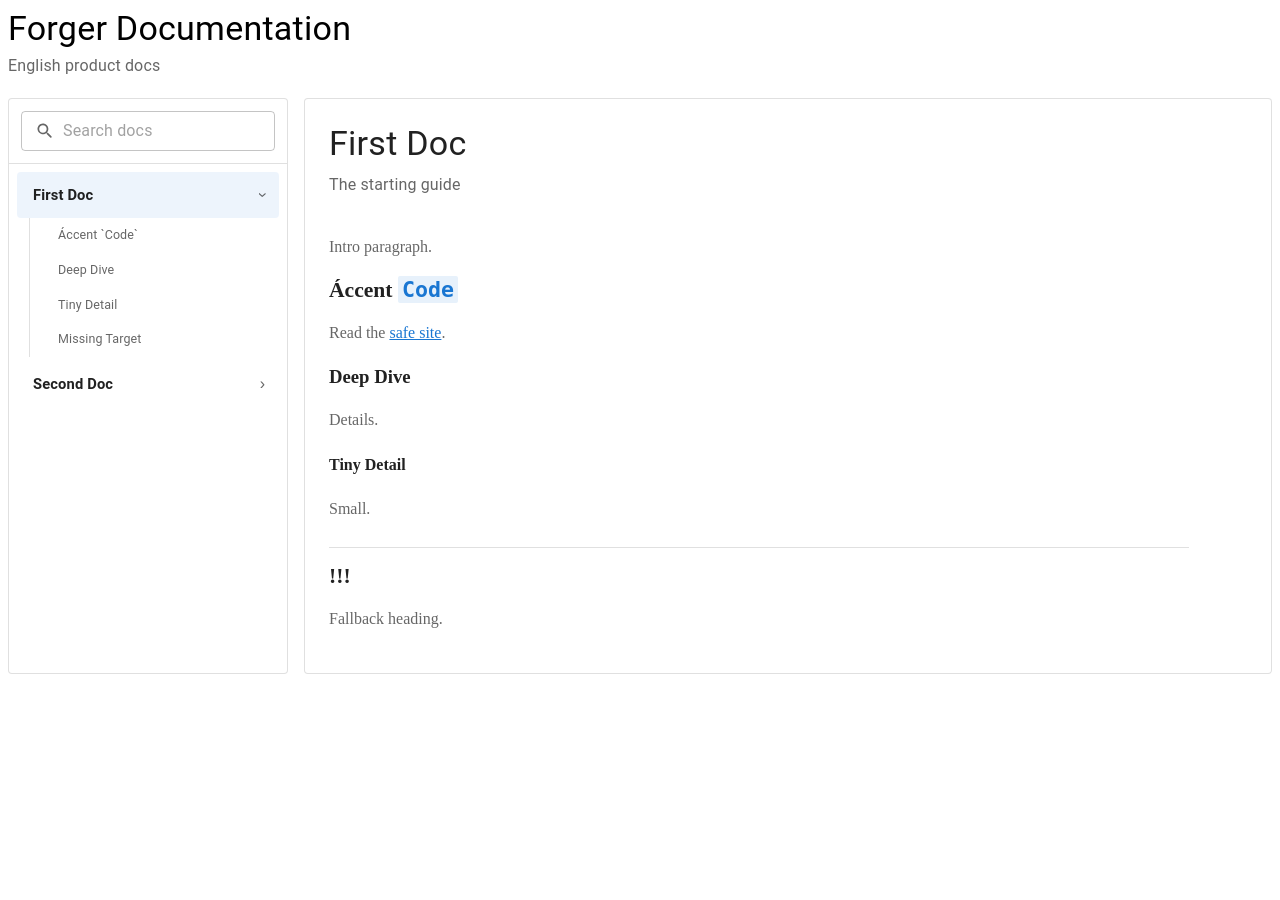
DocsView › searches documents, expands navigation, and opens a document
Check: the heading "Forger Documentation" is shown, box [8,8,351,48]
Check: the heading "First Doc" is shown, box [329,123,466,163]
Type "advanced workflows" into the field with placeholder "Search docs".
click(169, 131); type("advanced workflows")  # box [63,111,275,151]
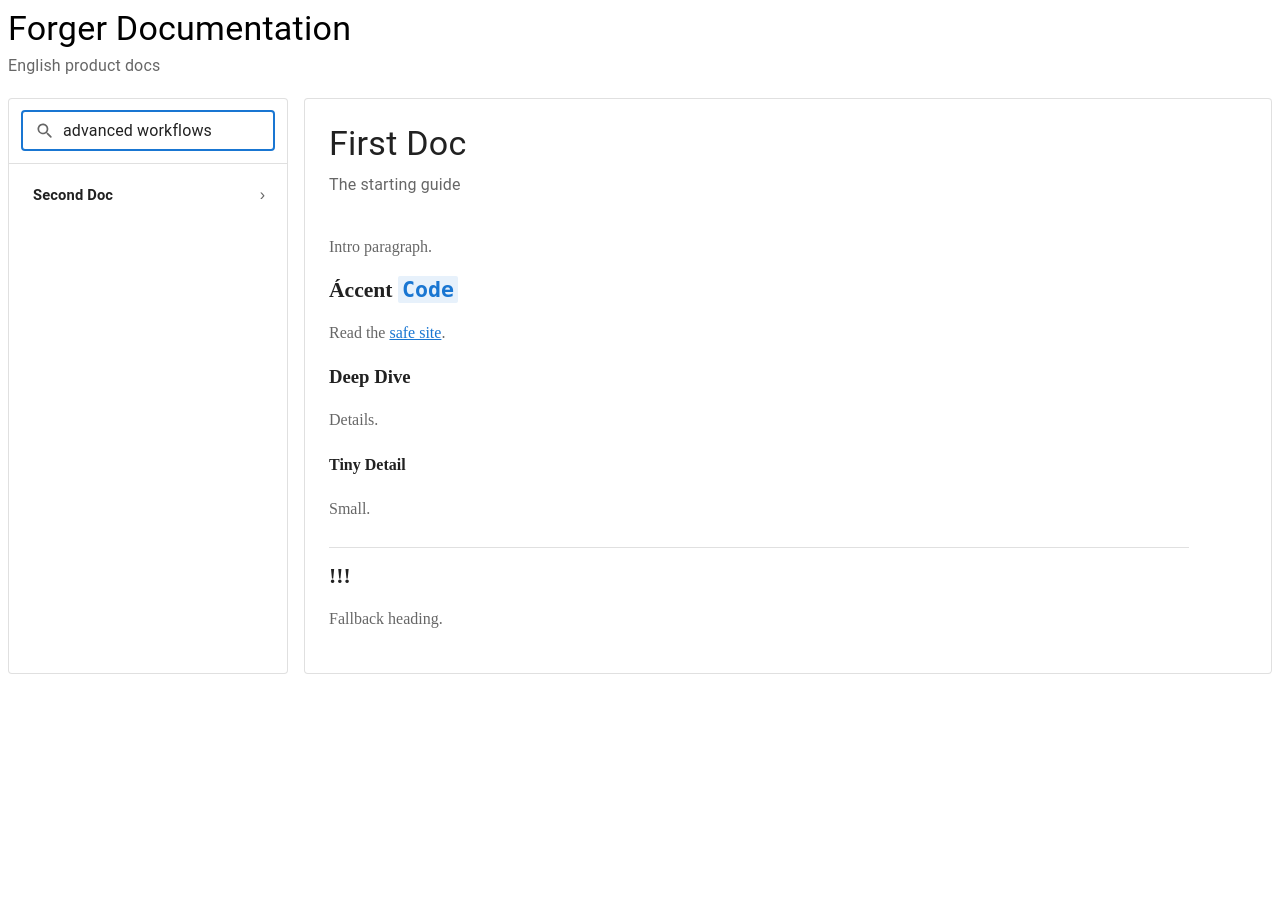
Check: the text "Second Doc" is shown, box [33,186,113,204]
Clear the field with placeholder "Search docs" at (169, 131), box [63,111,275,151]
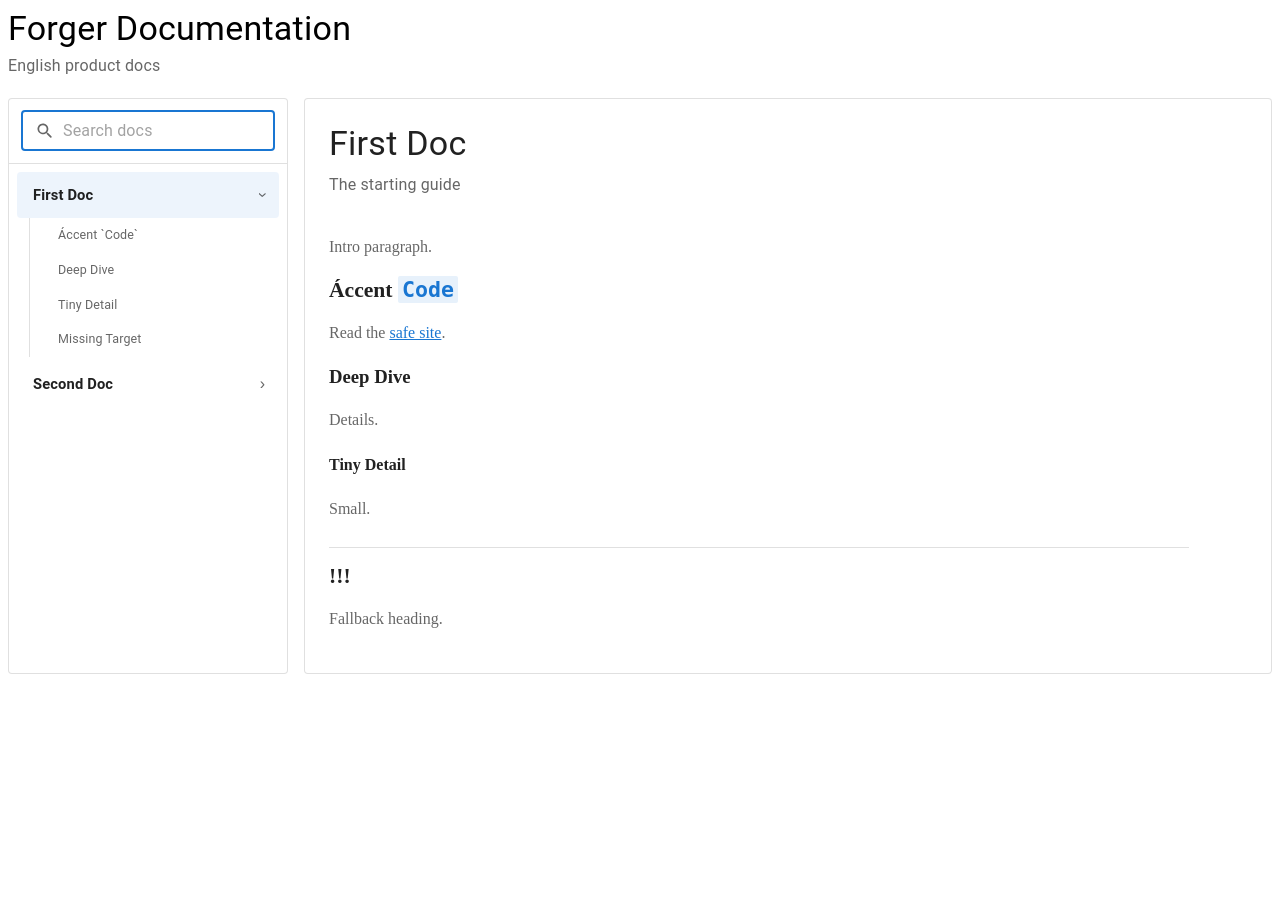
Click the button named "Collapse section".
click(262, 195)  # box [252,186,272,204]
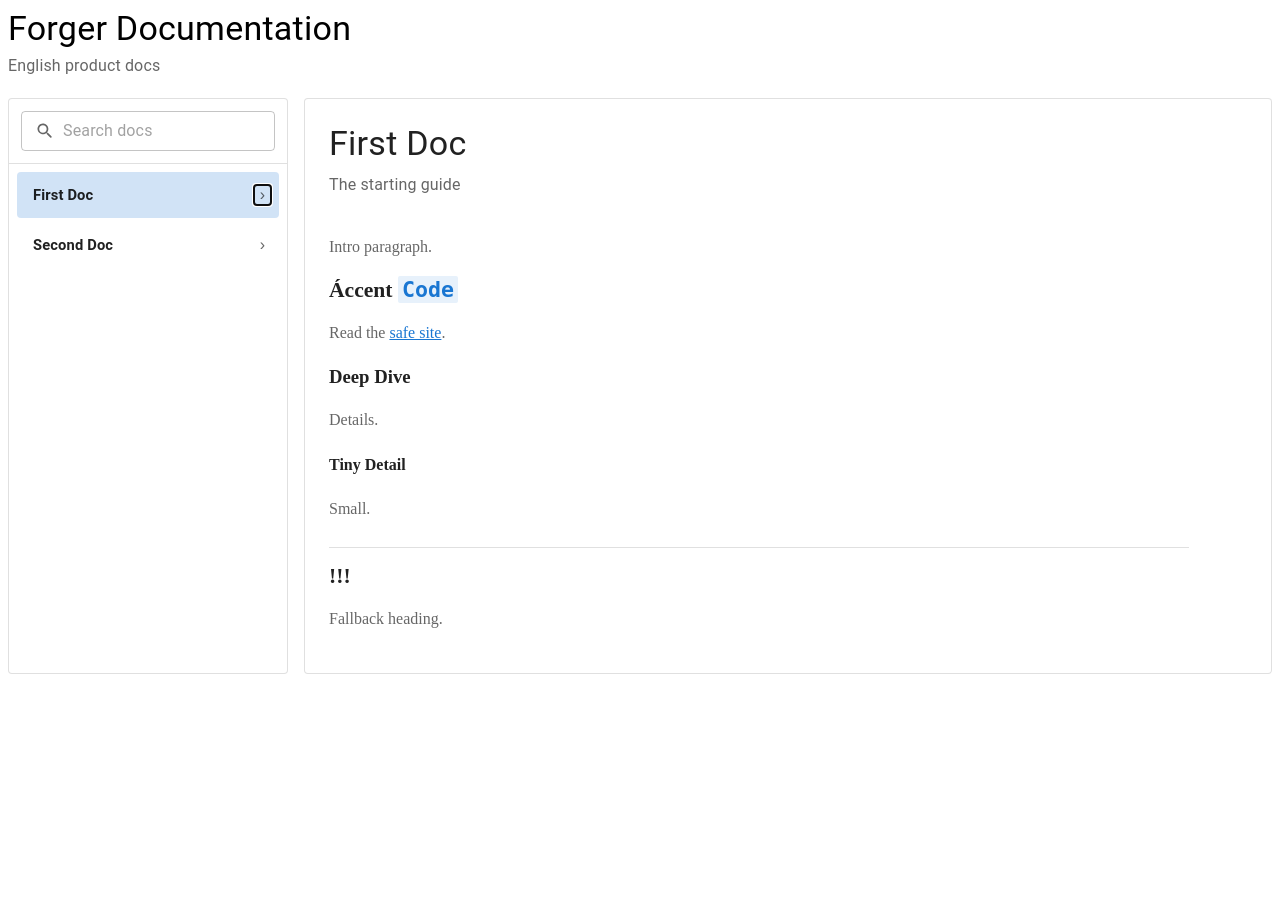
Click the button named "Expand section".
click(262, 195)  # box [254,185,271,205]
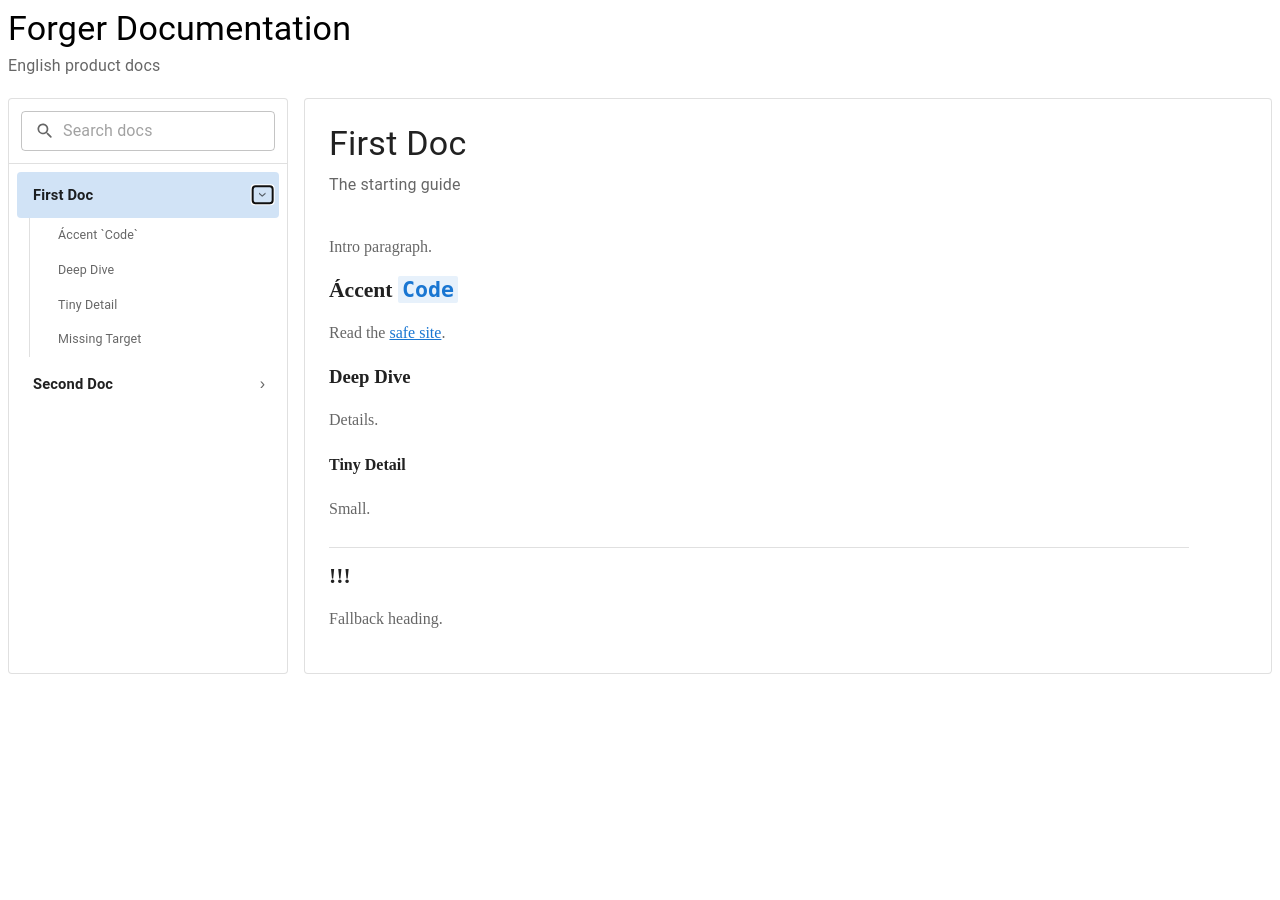
Check: the button "Deep Dive" is shown, box [58,262,114,277]
Click the button "Second Doc ›".
click(73, 384)  # box [33,374,271,394]
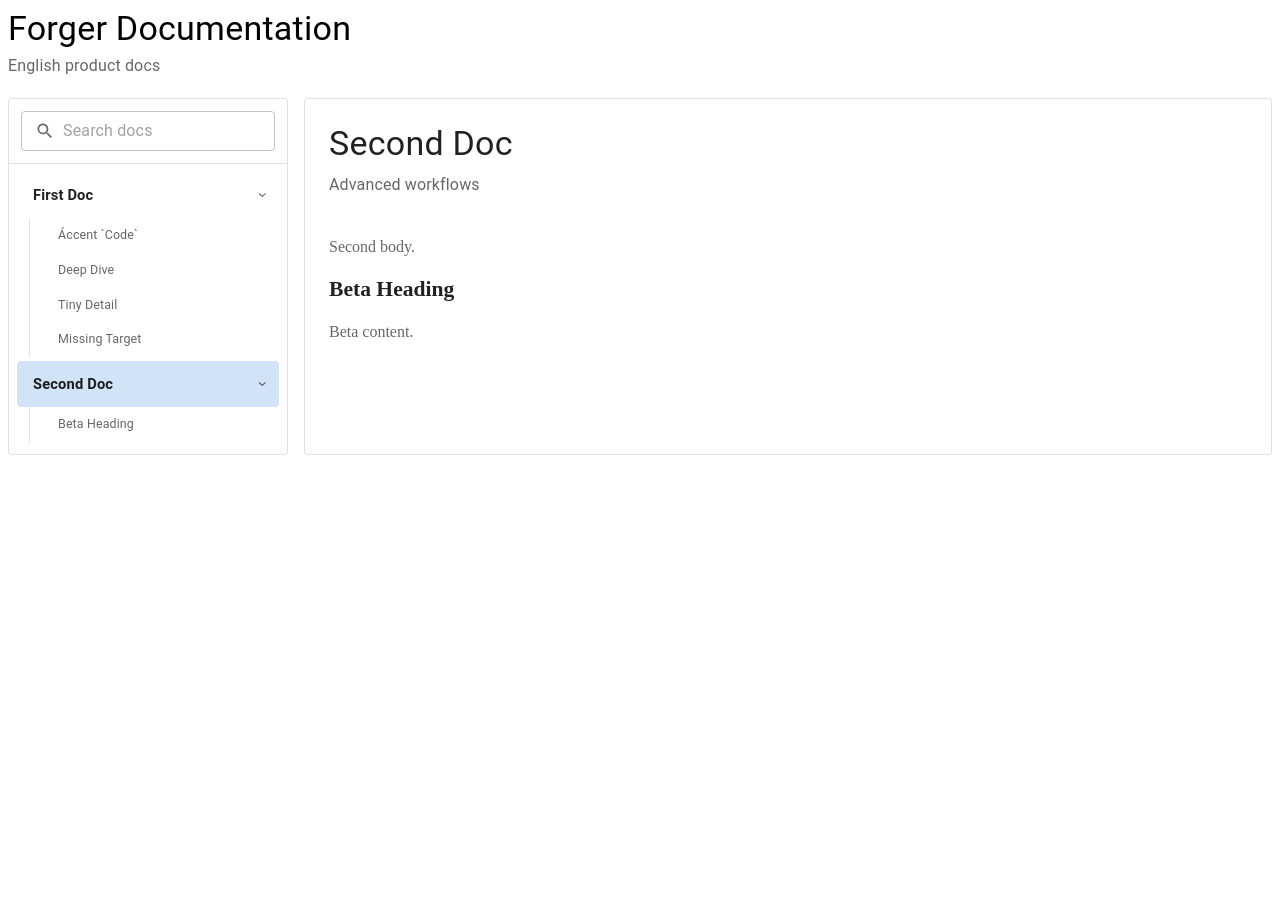
Check: the heading "Second Doc" is shown, box [329,123,513,163]
Check: the text "Beta content." is shown, box [329,323,413,340]
